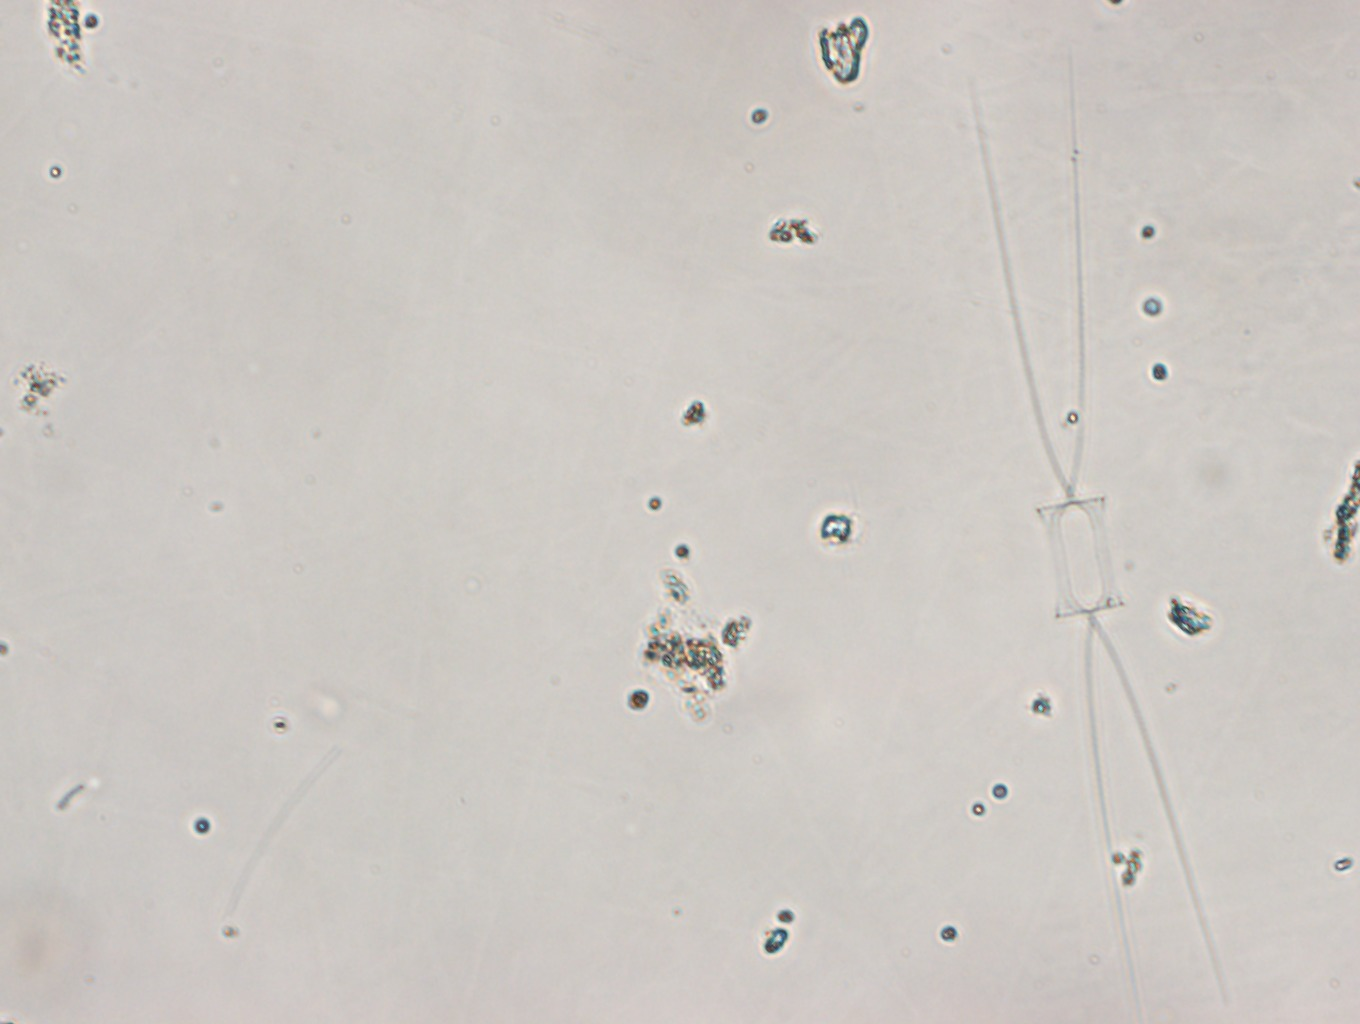chaetoceros: (956, 47, 1229, 1000)
